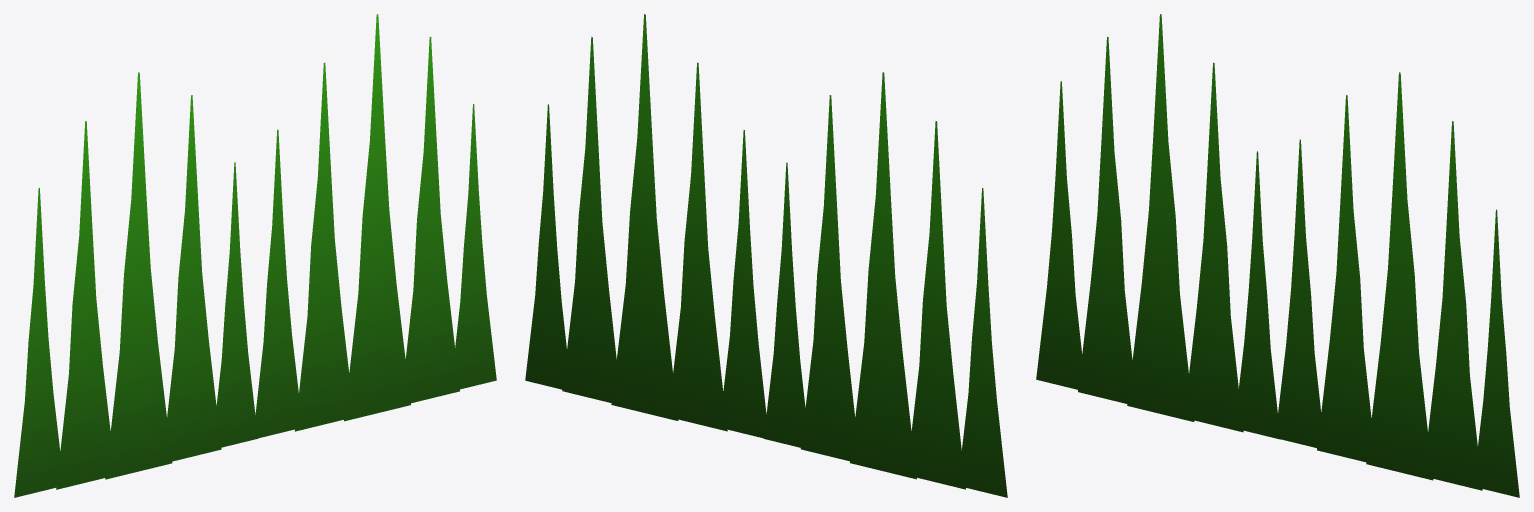
The model's file is Grass type 2.glb.
3 renders of one model, left to right at view 1: azimuth 30°, elevation 25°; view 2: azimuth 150°, elevation 25°; view 3: azimuth 330°, elevation 25°, orthographic.
Parts seen in each view (by area): view 1: Plane.002; view 2: Plane.002; view 3: Plane.002.
Part boxes in pixels (bbox=[...]): Plane.002: bbox=[14, 14, 496, 497]; Plane.002: bbox=[525, 14, 1007, 497]; Plane.002: bbox=[1036, 14, 1519, 497].
Size of the model in its own units: 0.5194 by 0.4104 by 0.00284.
Materials: 1 (1 with a texture image).
